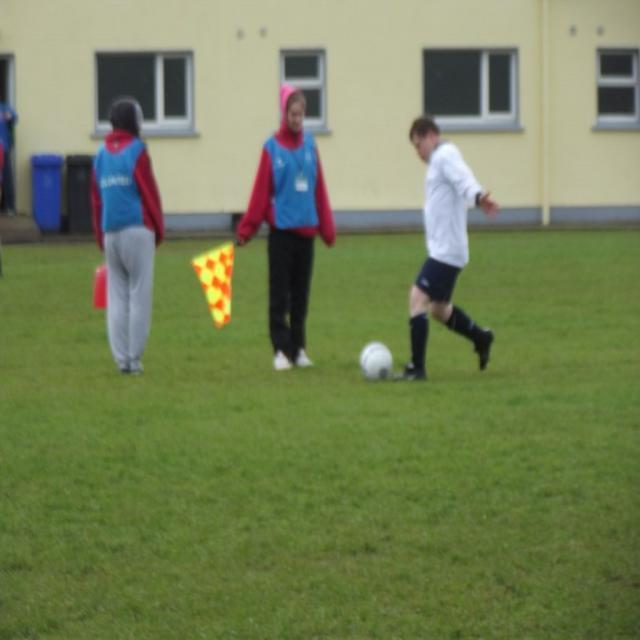football: (362, 338, 399, 389)
